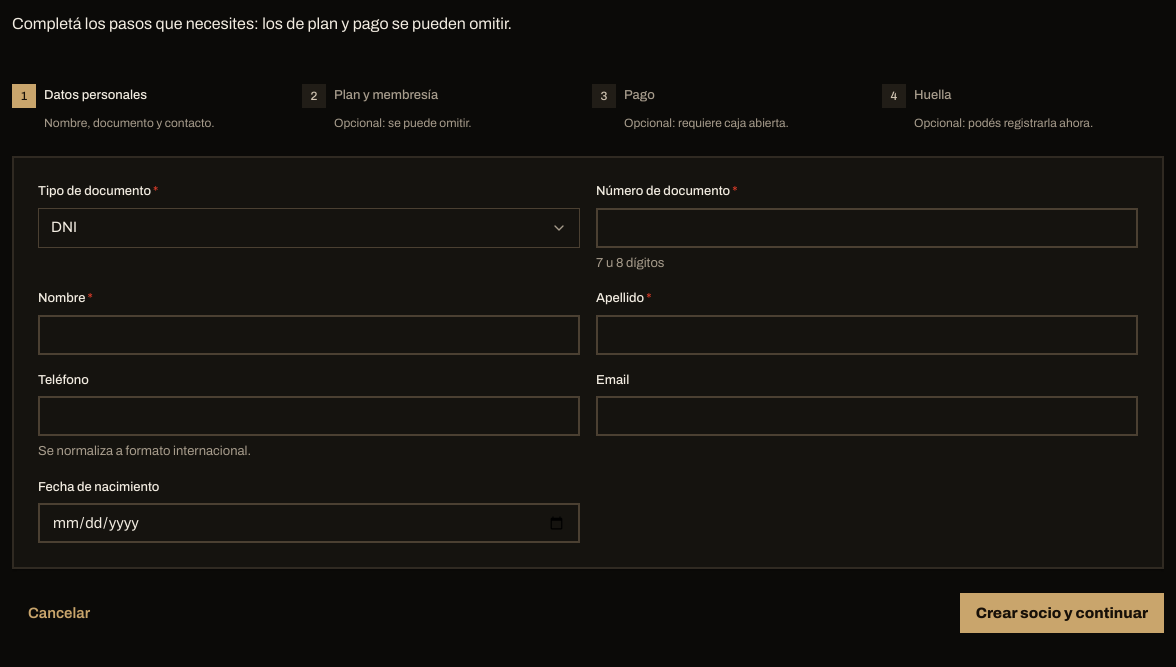
NewMemberPage › permite volver desde el plan y conserva los datos personales cargados
Type "20123456" into the field labelled "Número de documento*". click: (867, 228)
box: x1=596 y1=208 x2=1138 y2=248
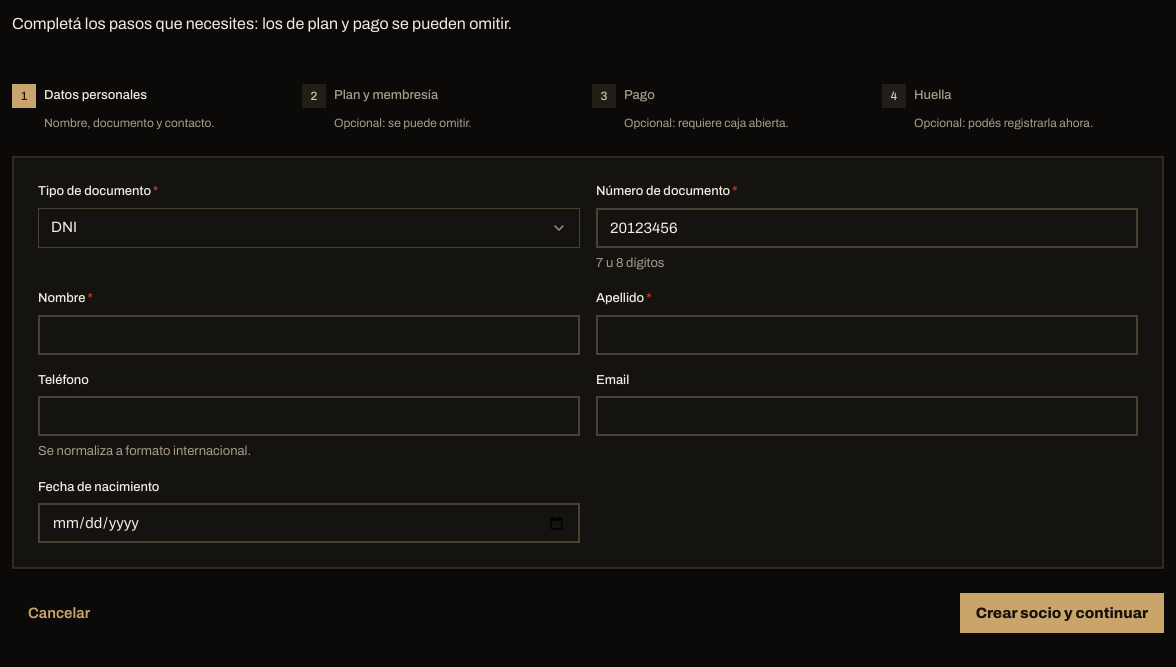
Type "Lucía" into the field labelled "Nombre*". click: (309, 334)
box: x1=38 y1=314 x2=580 y2=354
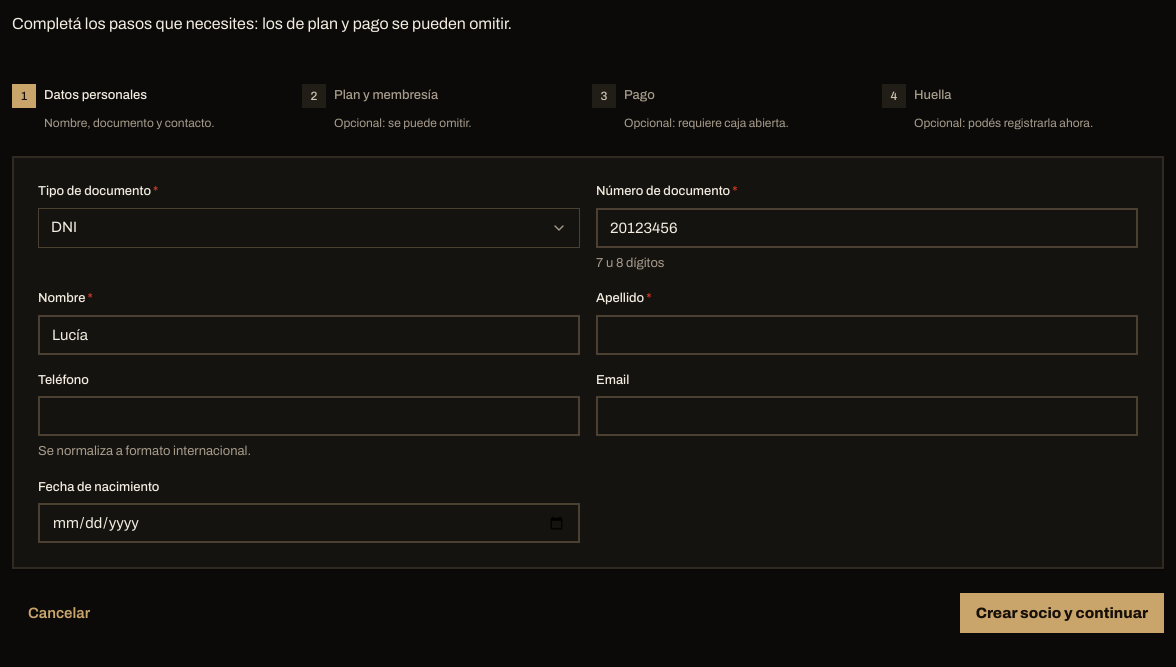
Type "Pérez" into the field labelled "Apellido*". click: (867, 334)
box: x1=596 y1=314 x2=1138 y2=354
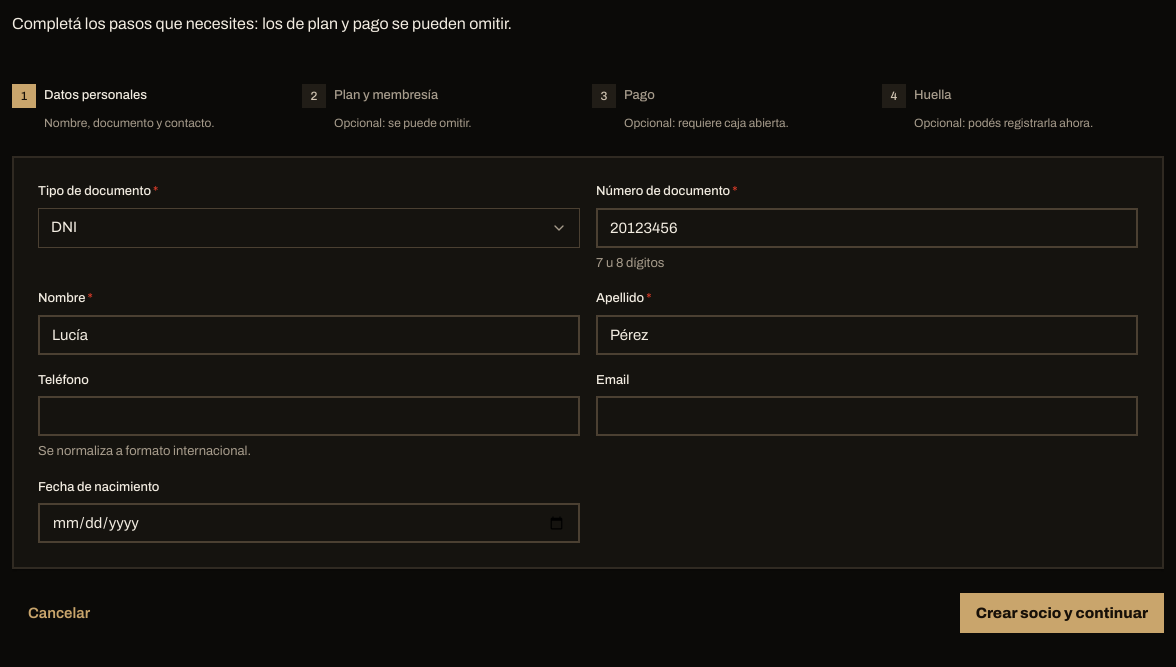
Click the button "Crear socio y continuar". click: (1062, 613)
box: x1=960 y1=593 x2=1164 y2=633
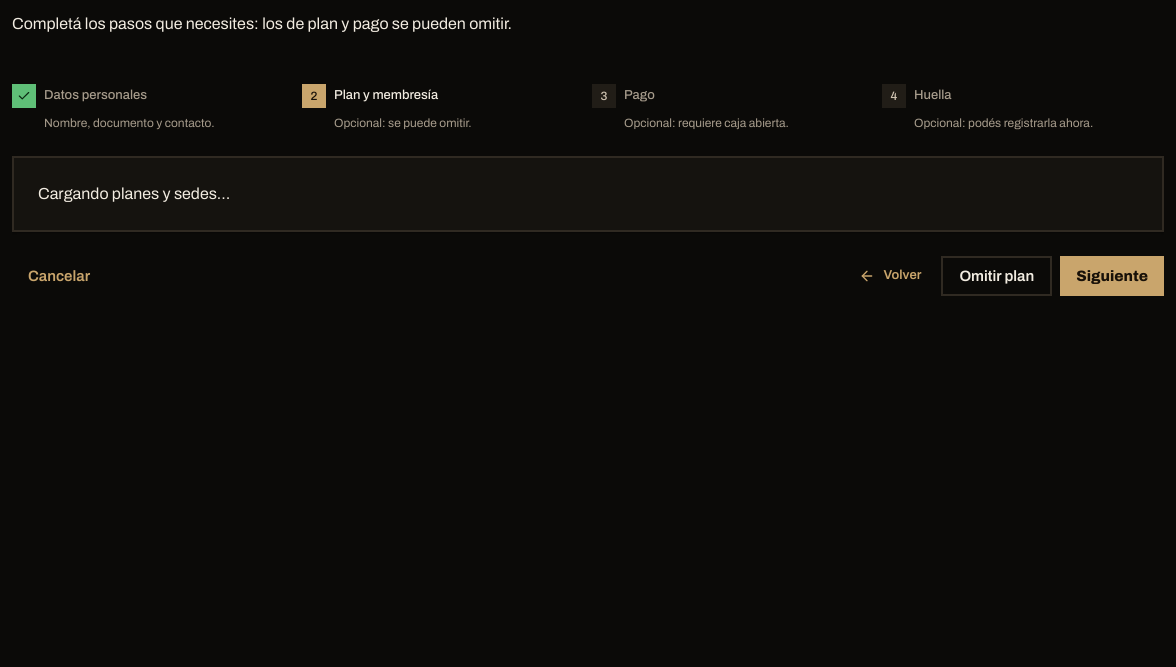
Expected: the text "Plan y membresía" is shown, x1=334 y1=86 x2=438 y2=106
Click the button "Volver". click: (890, 276)
box: x1=847 y1=260 x2=933 y2=292
(page scrolled)
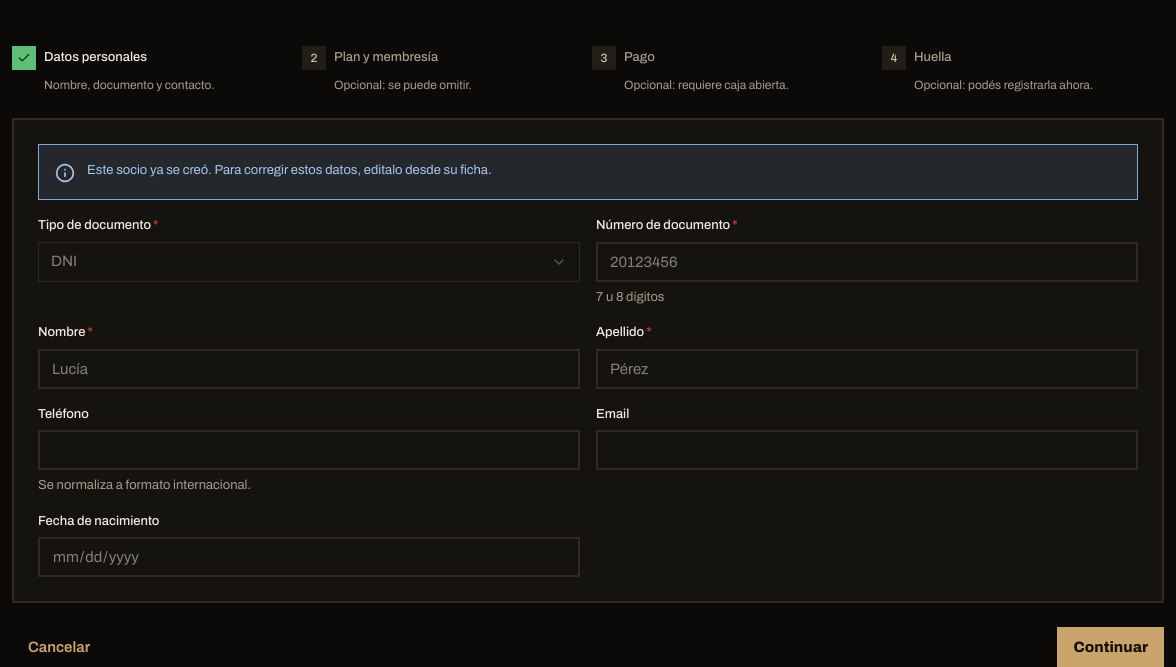
Now the field labelled "Nombre*" holds "Lucía", box x1=38 y1=348 x2=580 y2=388
Now the field labelled "Número de documento*" holds "20123456", box x1=596 y1=242 x2=1138 y2=282
Now the button "Continuar" is shown, box x1=1057 y1=627 x2=1164 y2=666
